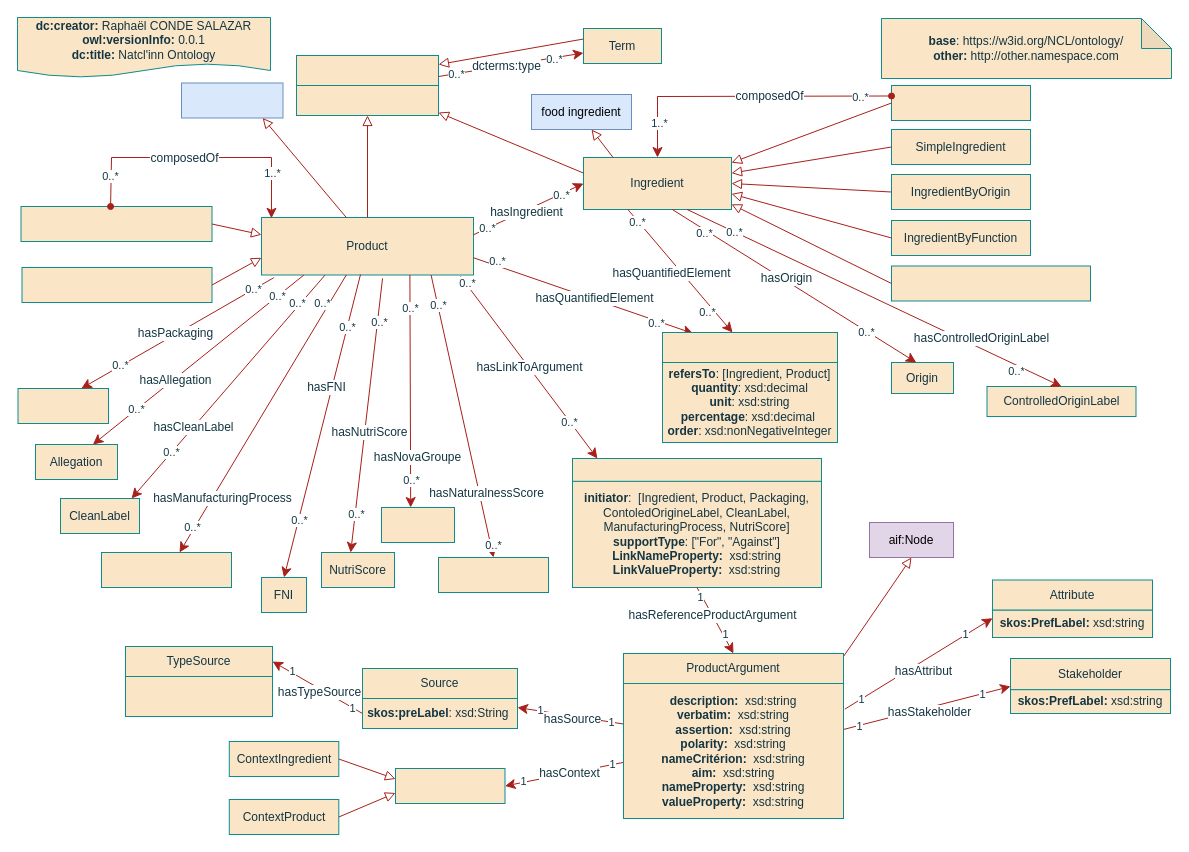
The diagram is 1189 pixels wide and 852 high, and some of its shapes have lost their labels. The shapes that lost their labels are listed below. From the top down, each one's centre as x and y in pixels, then its label:
At (x=367, y=70): "Ressource".
At (x=231, y=100): "processed food".
At (x=367, y=100): "identifier: xsd:string skos:preLabel: xsd:string".
At (x=960, y=102): "CompositeIngredient".
At (x=116, y=224): "CompositeProduct".
At (x=116, y=284): "SimpleProduct".
At (x=990, y=283): "IngredientByTransformationDegree".
At (x=750, y=347): "QuantifiedElement".
At (x=62, y=406): "Packaging".
At (x=697, y=469): "LinkToArgument".
At (x=417, y=524): "NovaGroupe".
At (x=166, y=570): "ManufacturingProcess".
At (x=493, y=574): "NaturalnessScore".
At (x=198, y=696): "skos:preLabel : xsd:string fiability : xsd:double".
At (x=449, y=786): "Context".
